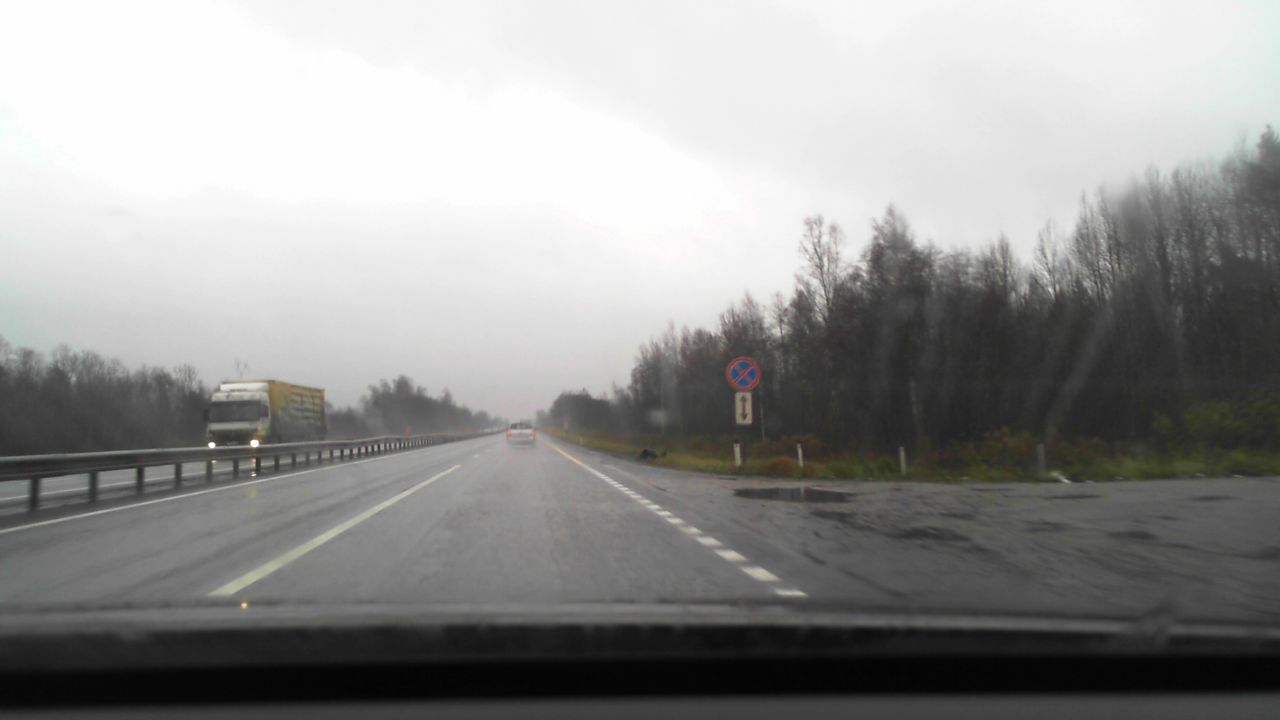No Parking: (726, 356, 761, 390)
